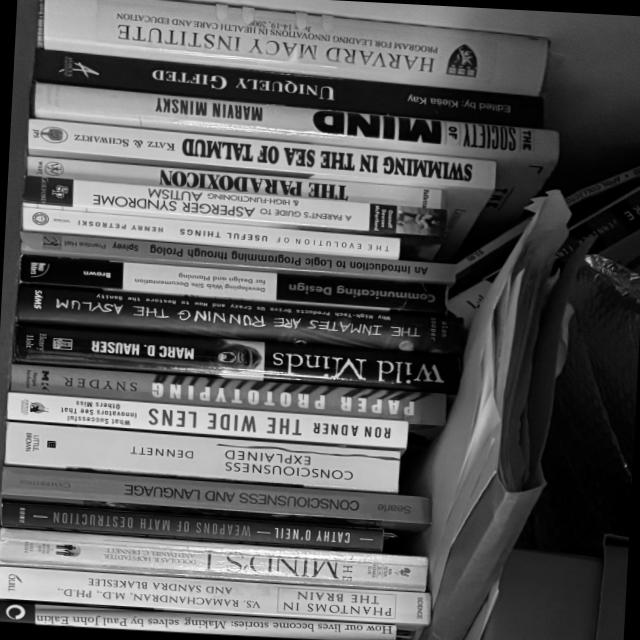book: (23, 78, 560, 234), (19, 117, 497, 258), (36, 0, 548, 101), (32, 48, 545, 131), (21, 172, 447, 251), (12, 323, 461, 395), (15, 284, 466, 355), (8, 357, 447, 429), (0, 464, 432, 533), (3, 421, 400, 495), (0, 527, 428, 594), (0, 565, 431, 631), (19, 254, 446, 315), (19, 231, 456, 288), (6, 391, 408, 451), (25, 155, 444, 210), (20, 206, 401, 262), (1, 501, 384, 554), (0, 600, 396, 640)
